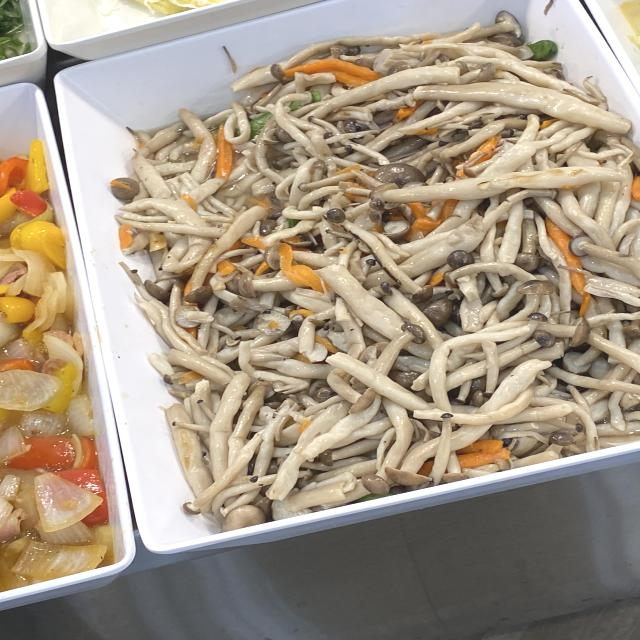brown swordbelt: (210, 106, 592, 390)
